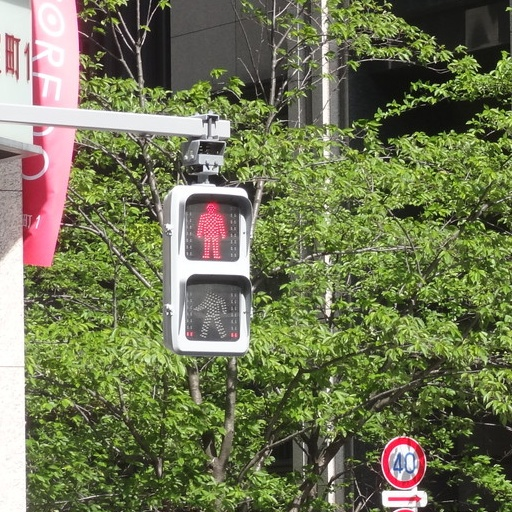Pedestrian_Signal_Red: (170, 179, 255, 358)
